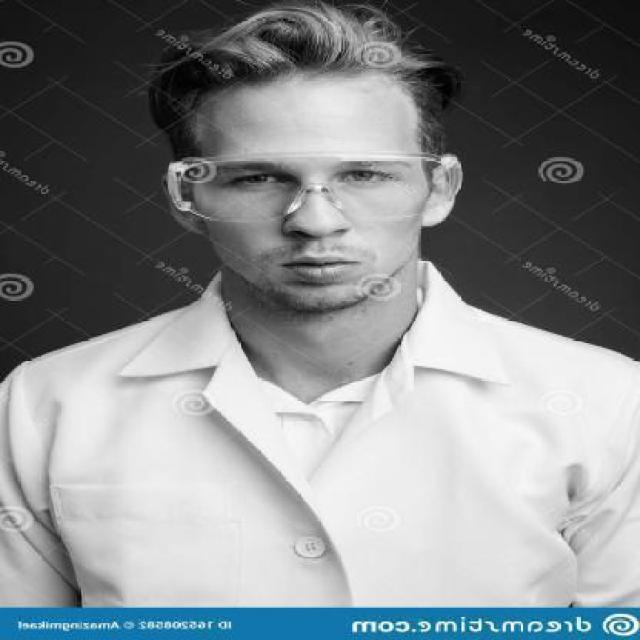face_nomask: (214, 157, 395, 303)
glasses: (161, 150, 454, 224)
head_nohelmet: (163, 8, 445, 118)
person: (23, 8, 640, 608)
